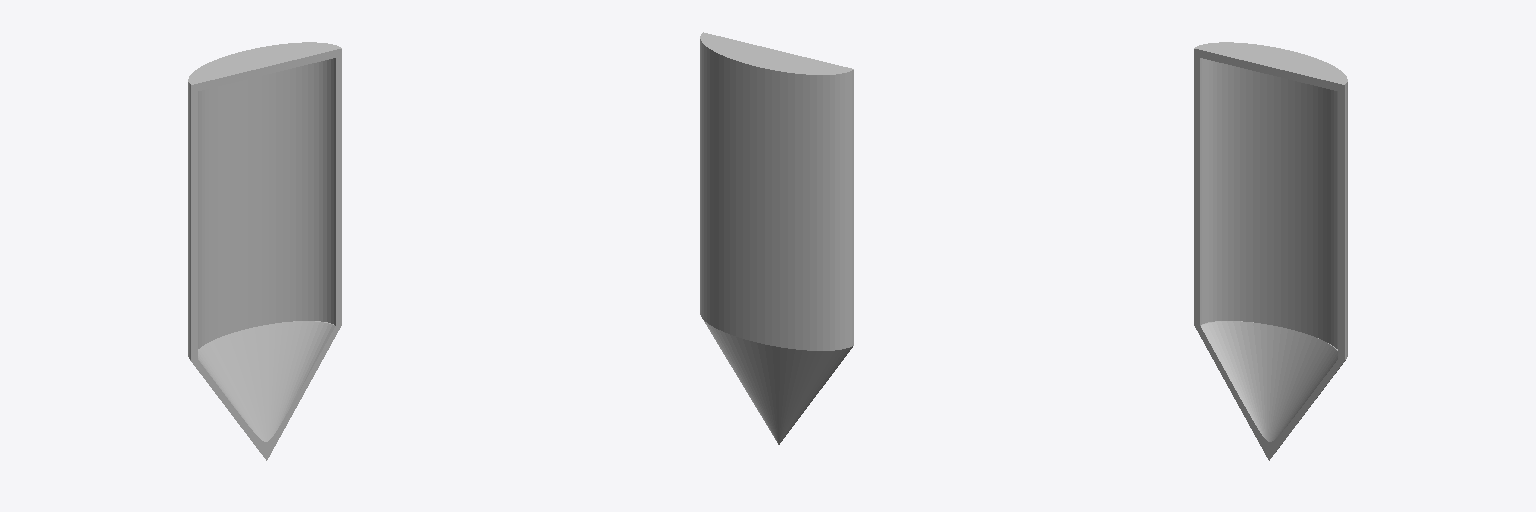
Rendered from Boat.obj.
3 renders of one model, left to right at view 1: azimuth 30°, elevation 25°; view 2: azimuth 150°, elevation 25°; view 3: azimuth 330°, elevation 25°, orthographic.
Visible parts, largest first — view 1: obj_0; view 2: obj_0; view 3: obj_0.
Boxes of the visible parts, x1=… form: obj_0: x1=188, y1=42, x2=341, y2=460; obj_0: x1=700, y1=32, x2=853, y2=444; obj_0: x1=1194, y1=42, x2=1347, y2=460.
Bounding box in the file's own units: 40 × 99.75 × 10.